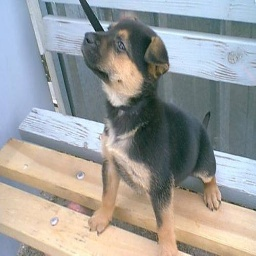dog: (72, 11, 224, 255)
